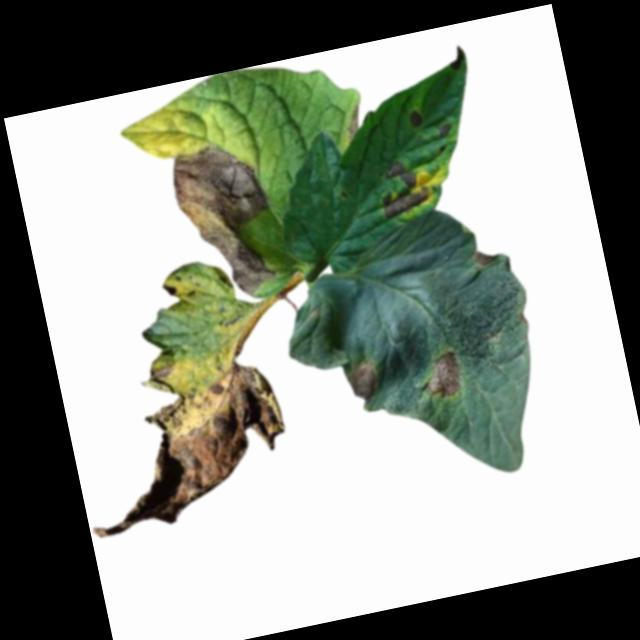Early_blight: (62, 347, 300, 544), (165, 135, 287, 308), (372, 155, 434, 222), (419, 348, 467, 402), (344, 358, 384, 402), (468, 245, 500, 272), (344, 104, 365, 143), (448, 45, 467, 72), (405, 109, 427, 131), (161, 282, 180, 304), (436, 122, 455, 141)
